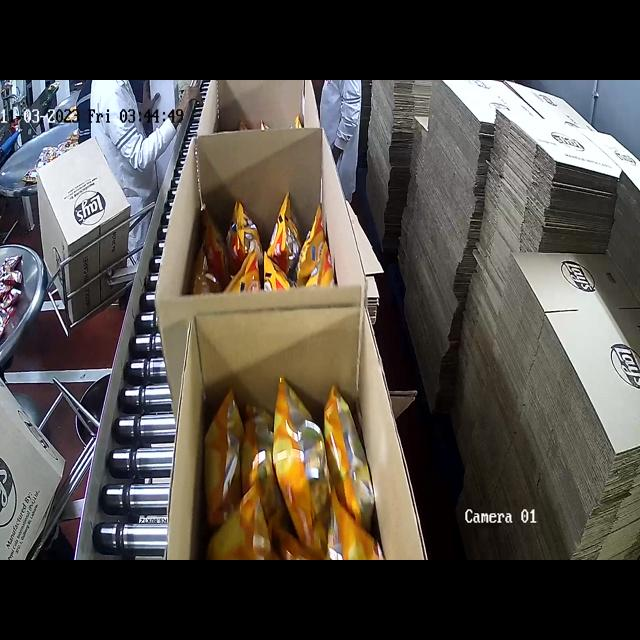cheese: (199, 386, 380, 557), (199, 185, 338, 293)
